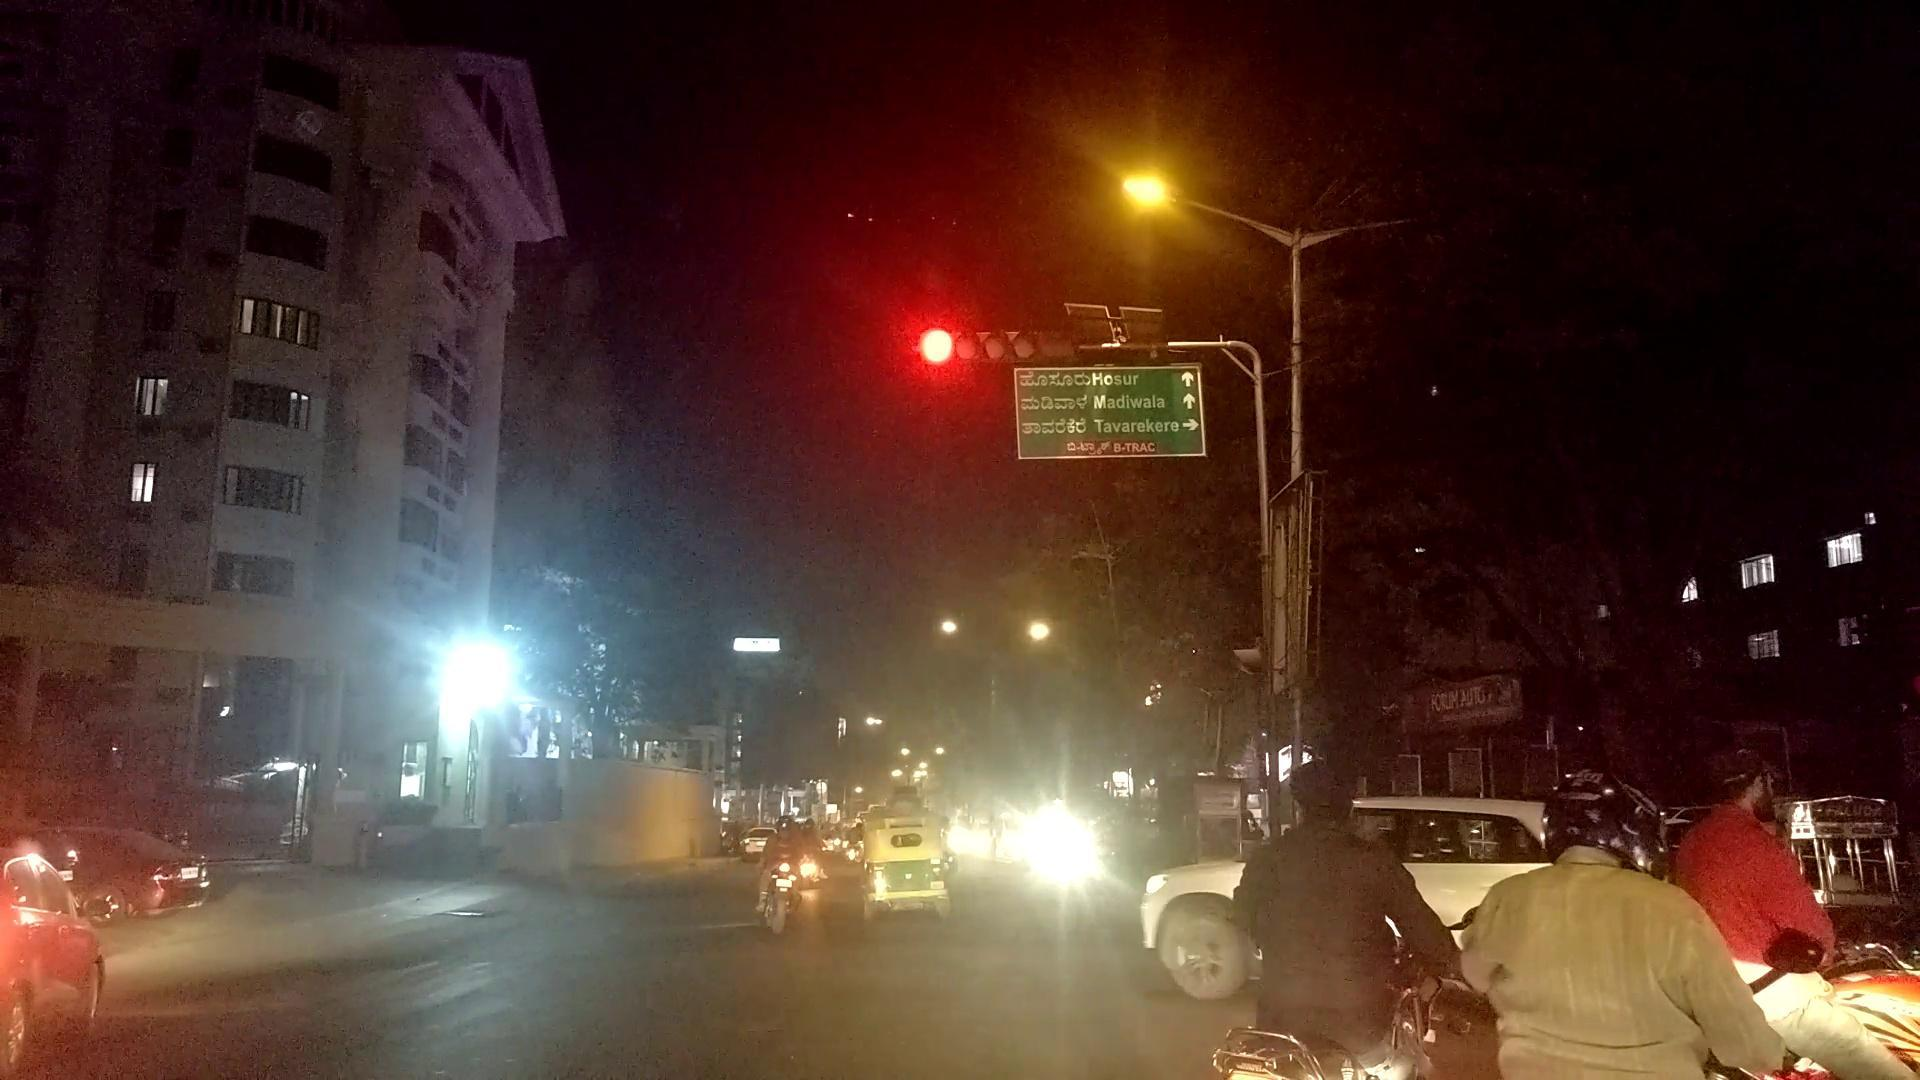on: (971, 0, 1342, 251)
